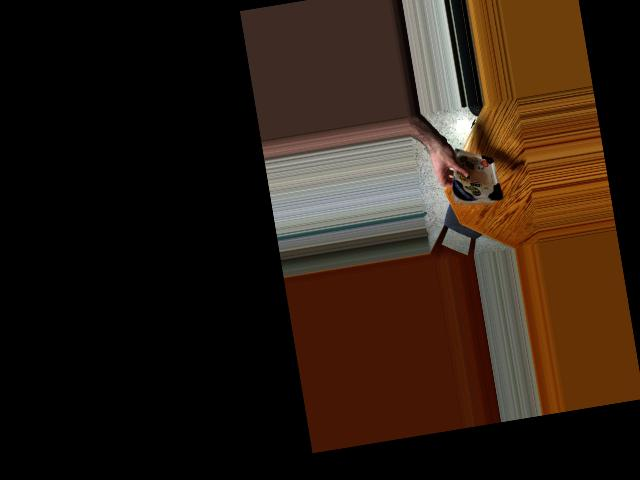cheese: (445, 154, 501, 212)
